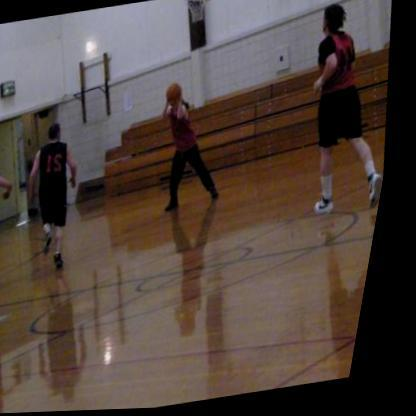basketball: (165, 82, 188, 106)
